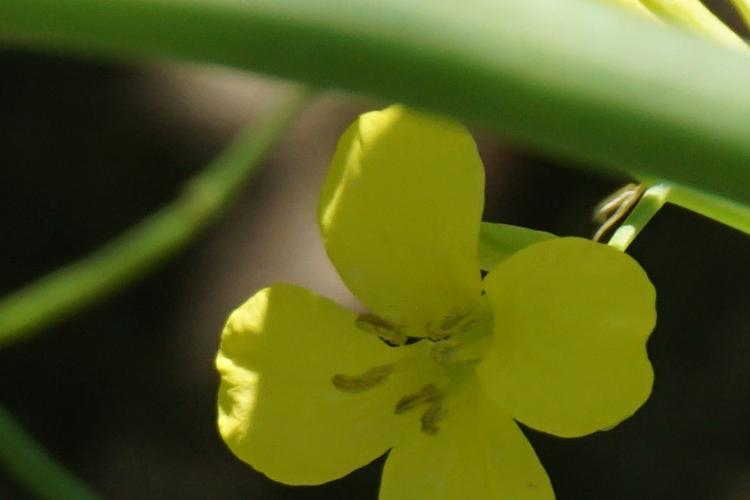yellow: (224, 107, 658, 492)
